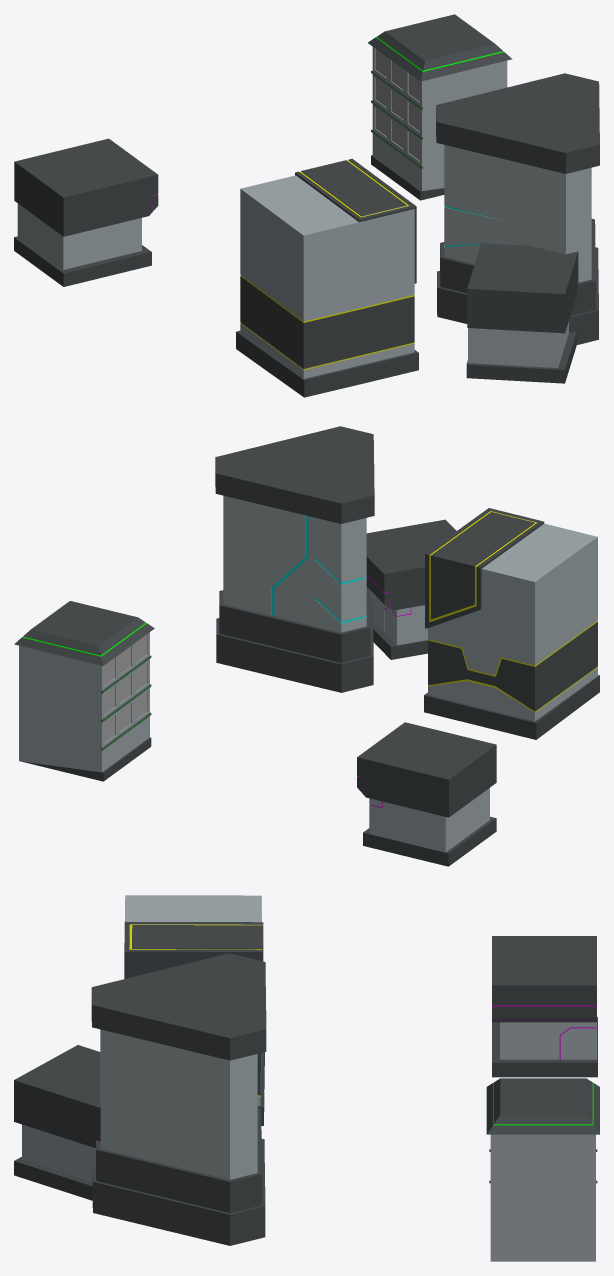
File: Background_Buildings.fbx
3 views of the same model, one above another, from view 1: azimuth 30°, elevation 25°; view 2: azimuth 150°, elevation 25°; view 3: azimuth 270°, elevation 25° (orthographic). The views are drawn at different scales.
Visible parts, largest first — view 1: Building6, Building5, Building7, Building8, Building9; view 2: Building5, Building6, Building8, Building7, Building9; view 3: Building5, Building8, Building7, Building9, Building6.
Boxes of the visible parts, x1=… form: Building6: x1=236, y1=158, x2=418, y2=397; Building5: x1=436, y1=73, x2=599, y2=344; Building7: x1=14, y1=138, x2=158, y2=286; Building8: x1=368, y1=14, x2=512, y2=200; Building9: x1=466, y1=243, x2=578, y2=383; Building5: x1=215, y1=426, x2=374, y2=692; Building6: x1=424, y1=508, x2=599, y2=739; Building8: x1=14, y1=601, x2=154, y2=781; Building7: x1=357, y1=722, x2=496, y2=866; Building9: x1=366, y1=519, x2=456, y2=659; Building5: x1=91, y1=953, x2=266, y2=1245; Building8: x1=486, y1=1078, x2=599, y2=1261; Building7: x1=492, y1=936, x2=597, y2=1077; Building9: x1=14, y1=1045, x2=100, y2=1200; Building6: x1=124, y1=895, x2=264, y2=1125.
Bounding box in the file's own units: 4849 × 2027 × 5171.
